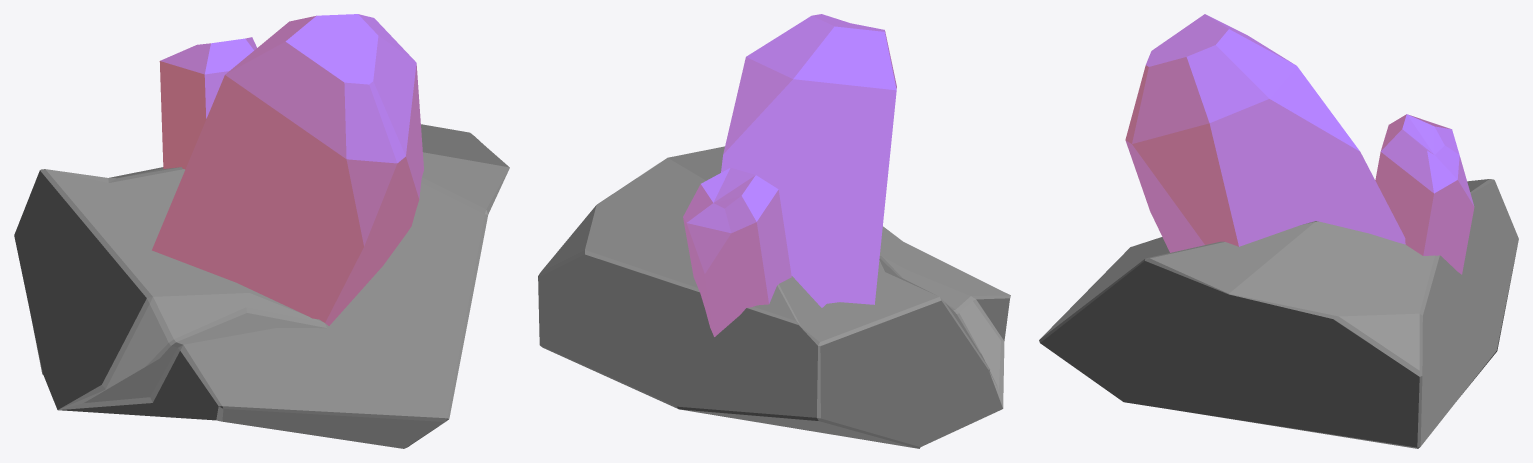
Rendered from Red ore 2.fbx.
3 renders of one model, left to right at view 1: azimuth 30°, elevation 25°; view 2: azimuth 150°, elevation 25°; view 3: azimuth 270°, elevation 25°, orthographic. The views are drawn at different scales.
Parts seen in each view (by area): view 1: Rock .015, Cube.123, Cylinder.050; view 2: Rock .015, Cube.123, Cylinder.050; view 3: Rock .015, Cube.123, Cylinder.050.
Part boxes in pixels (x1,y1,x2,y2): Rock .015: (14,124,509,448); Cube.123: (152,14,423,325); Cylinder.050: (159,37,256,169); Rock .015: (538,146,1010,448); Cube.123: (721,14,896,307); Cylinder.050: (683,167,791,336); Rock .015: (1039,179,1518,448); Cube.123: (1125,14,1405,252); Cylinder.050: (1375,114,1474,274).
Size of the model in its own units: 31.13 by 25.56 by 30.86.
